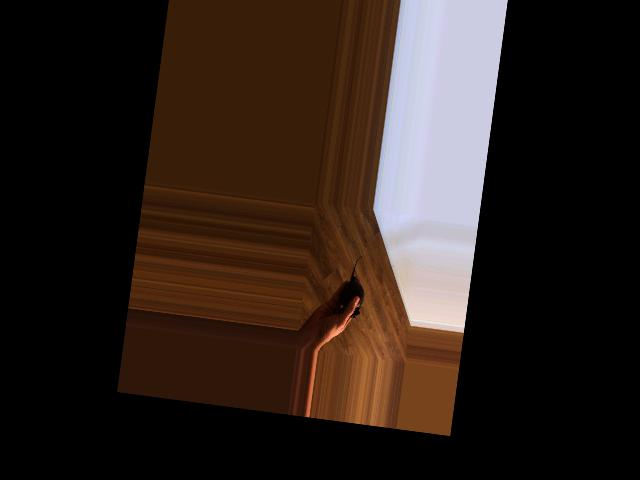beet: (338, 253, 369, 318)
